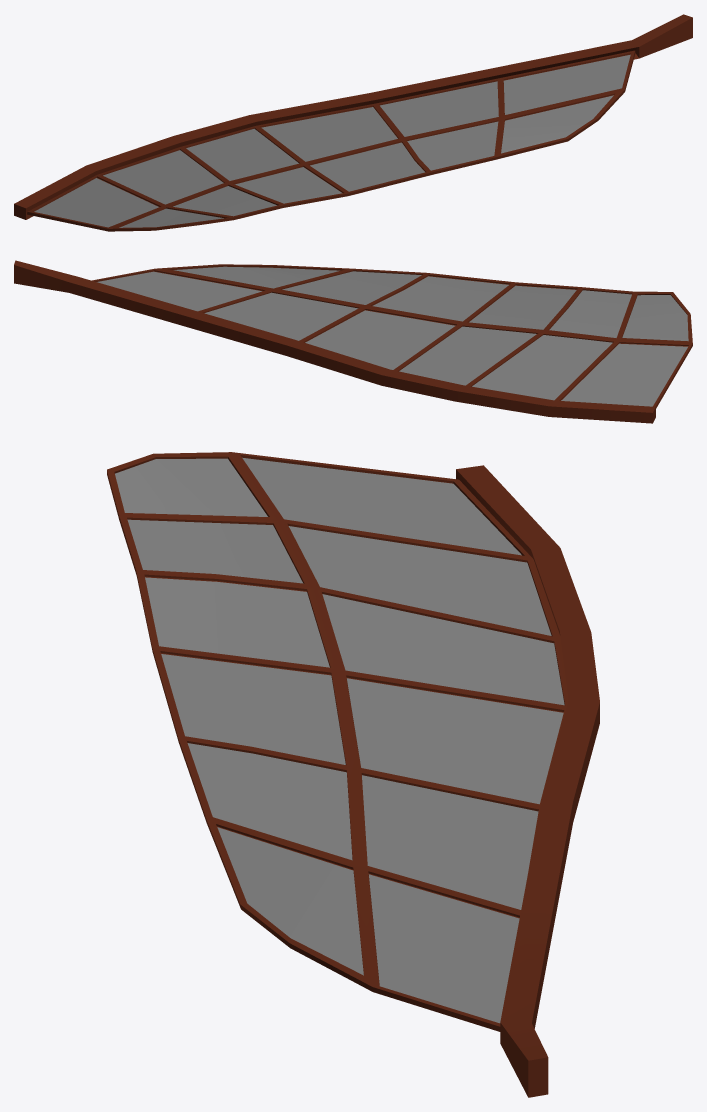
The model's file is ST_Wing_03.fbx.
3 views of the same model, one above another, from view 1: azimuth 30°, elevation 25°; view 2: azimuth 150°, elevation 25°; view 3: azimuth 270°, elevation 25° (orthographic). The views are drawn at different scales.
Parts seen in each view (by area): view 1: _Wing_03; view 2: _Wing_03; view 3: _Wing_03.
Part boxes in pixels (x1,y1,x2,y2): _Wing_03: (14, 14, 692, 231); _Wing_03: (14, 260, 692, 423); _Wing_03: (107, 452, 599, 1097).
Bounding box in the file's own units: 5232 × 357 × 1784.
